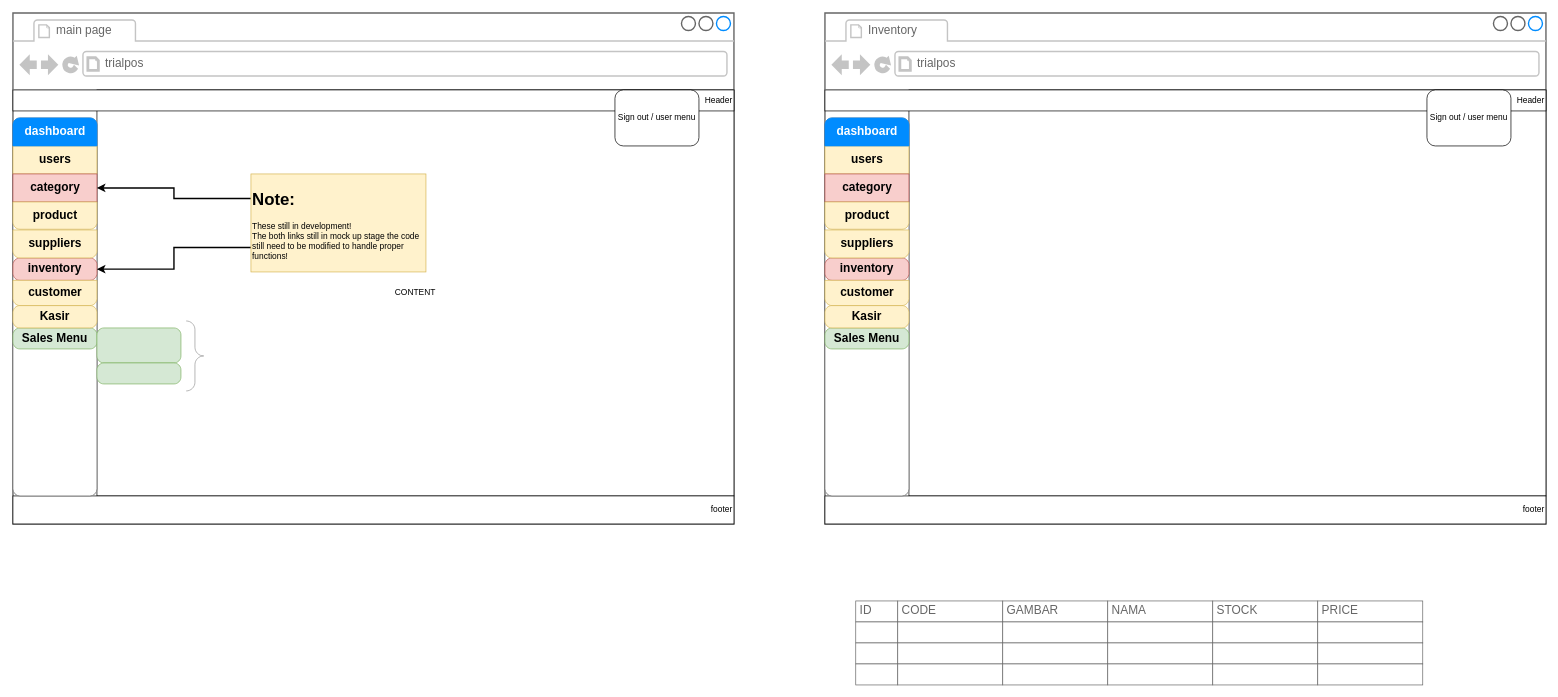
Image size: 1558x697. Some labels were removed from this diagram. The shapes that lost their labels are listed below. From the top down, each one's centre as x and y in pixels, then its label:
At pixel 138 345: "Sales Management".
At pixel 138 373: "Sales Report".
